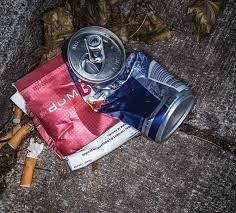metal: (59, 23, 209, 140)
paper: (9, 61, 161, 167)
trash: (4, 101, 42, 188)
wood: (43, 0, 174, 52), (186, 0, 226, 32)
